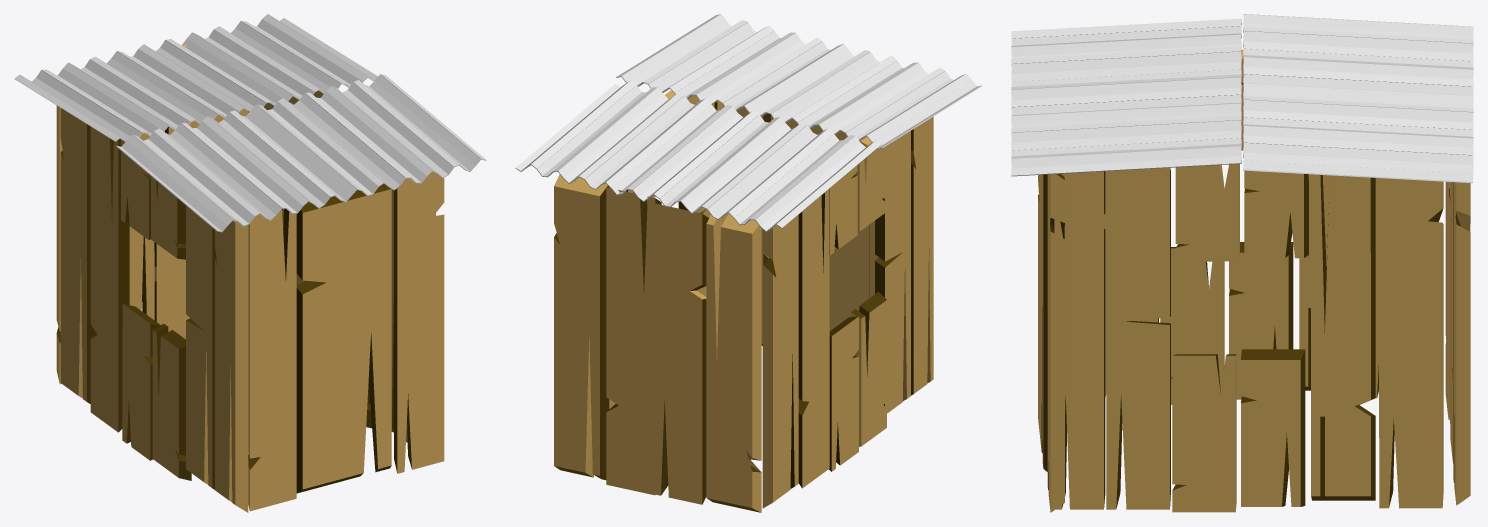
The model's file is shack.fbx.
3 renders of one model, left to right at view 1: azimuth 30°, elevation 25°; view 2: azimuth 150°, elevation 25°; view 3: azimuth 270°, elevation 25°, orthographic. The views are drawn at different scales.
Parts seen in each view (by area): view 1: polySurface95; view 2: polySurface95; view 3: polySurface95.
Boxes of the visible parts, x1,y1,x2,y2 form: polySurface95: (14,14,486,512); polySurface95: (515,14,982,512); polySurface95: (1011,14,1473,512).
Size of the model in its own units: 43.51 by 50.34 by 56.62.
